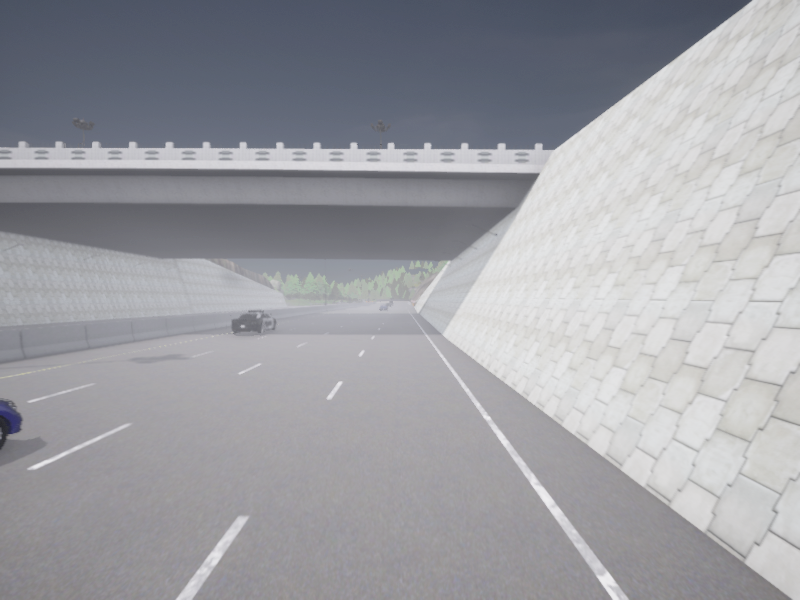vehicle: (0, 398, 22, 450), (231, 310, 276, 334), (380, 304, 388, 310), (386, 303, 391, 307), (389, 301, 393, 305)
